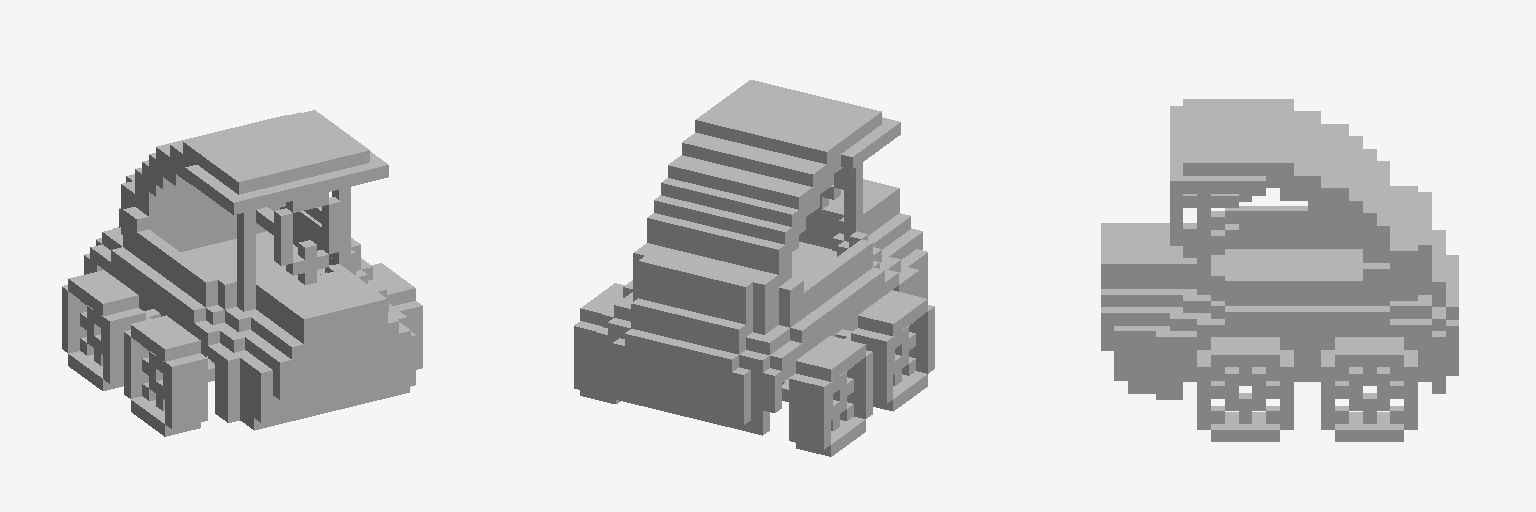
The model's file is Tank_01.obj.
3 views of the same model, side by side, from view 1: azimuth 30°, elevation 25°; view 2: azimuth 150°, elevation 25°; view 3: azimuth 270°, elevation 25° (orthographic).
Parts seen in each view (by area): view 1: object 1; view 2: object 1; view 3: object 1.
Boxes of the visible parts, x1,y1,x2,y2 form: object 1: [62, 110, 422, 436]; object 1: [574, 80, 934, 456]; object 1: [1101, 99, 1458, 441].
Bounding box in the file's own units: 2.1 × 2 × 2.6.